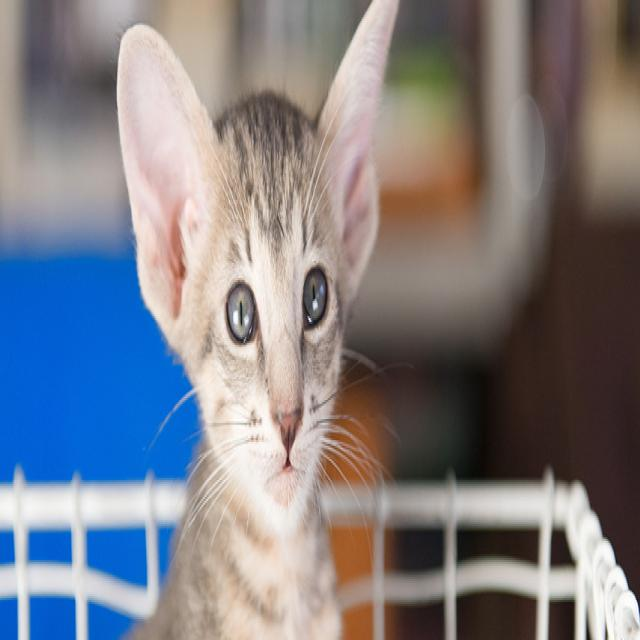Oriental: (90, 0, 404, 640)
